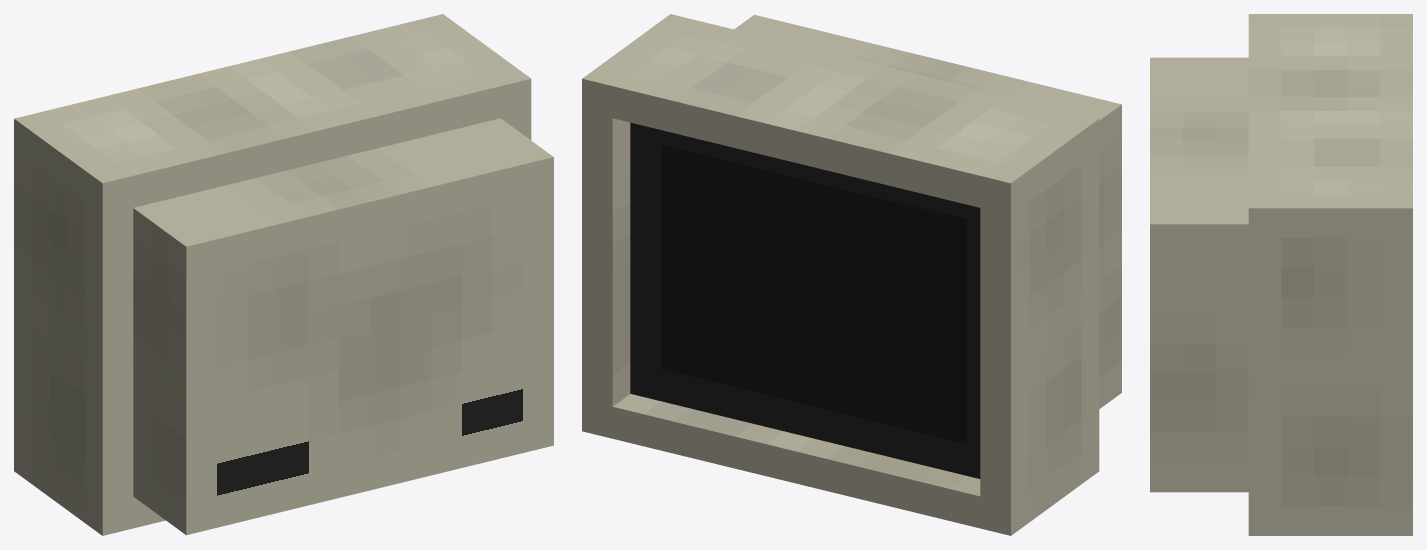
File: monitor.gltf
3 views of the same model, side by side, from view 1: azimuth 30°, elevation 25°; view 2: azimuth 150°, elevation 25°; view 3: azimuth 270°, elevation 25° (orthographic). The views are drawn at different scales.
Parts seen in each view (by area): view 1: Back, cube (×4); view 2: cube (×5), Screen, Back; view 3: cube (×4), Back.
Boxes of the visible parts, x1,y1,x2,y2 form: Back: (133,118,553,535); cube (×4): (14,14,531,535); cube (×5): (582,14,1099,535); Screen: (630,122,980,478); Back: (734,14,1121,408); cube (×4): (1248,14,1412,535); Back: (1150,57,1248,492).
Bounding box in the file's own units: 0.875 × 0.6875 × 0.5.
1 material, 1 textured.
